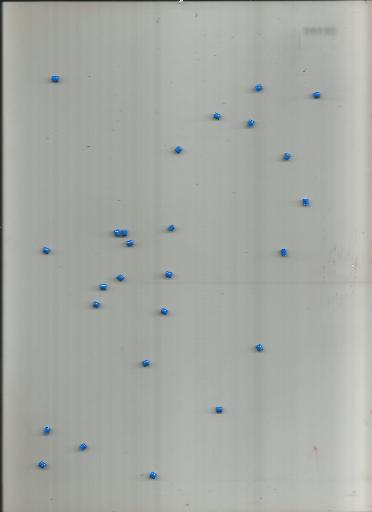Pellet: (173, 145, 184, 155), (246, 118, 256, 128), (255, 83, 264, 94), (149, 470, 158, 480), (38, 460, 47, 469), (42, 426, 51, 435), (164, 270, 173, 279), (282, 152, 291, 161), (51, 75, 60, 84), (313, 91, 322, 100), (113, 228, 121, 238), (280, 248, 288, 258), (79, 442, 87, 451), (142, 359, 150, 368), (256, 343, 264, 352), (161, 307, 169, 316), (42, 247, 51, 255), (120, 229, 129, 237), (302, 198, 310, 207), (213, 113, 222, 121), (92, 300, 100, 308), (167, 224, 175, 232), (215, 406, 223, 413), (99, 283, 107, 290), (127, 239, 134, 247), (117, 274, 124, 281)
